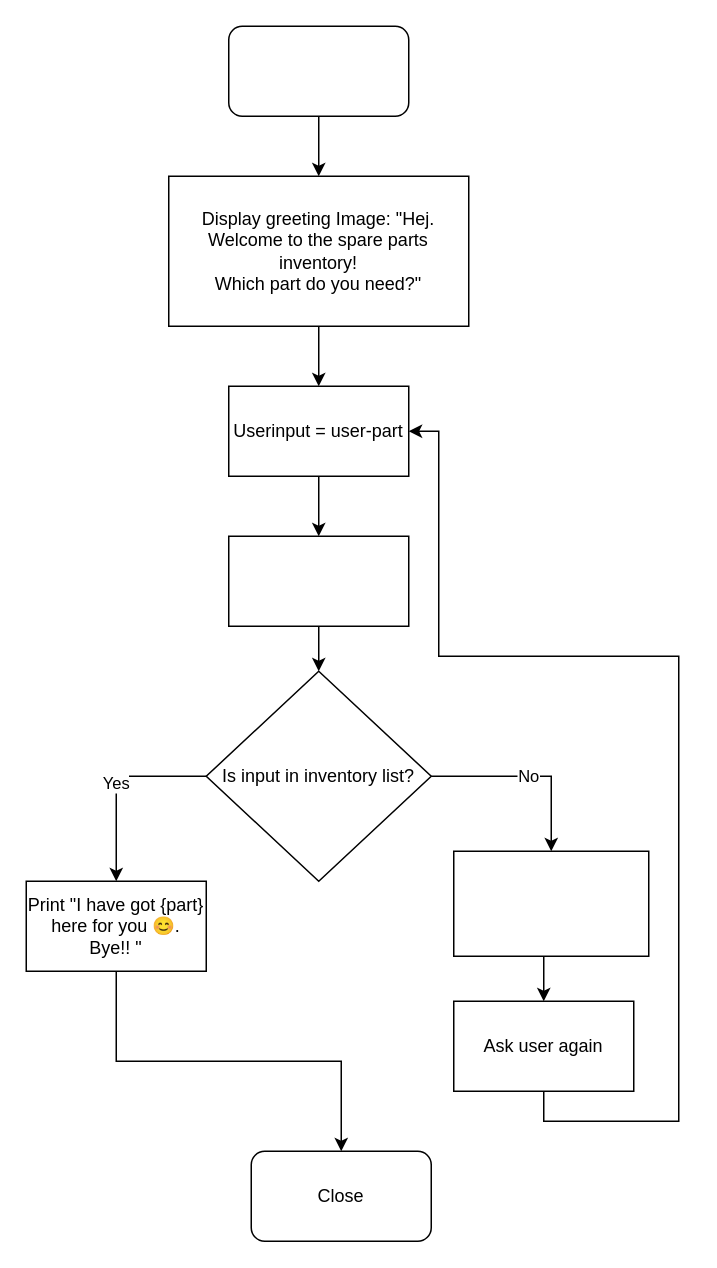
Image size: 717x1268. Some labels were removed from this diagram. Each missing label, with the centre of its shape:
Print "I am afraid we don’t have any {part} in the inventory 😔": pixel 550 903
Show inventory Is input in inventory list?: pixel 318 580
Start: pixel 318 70
